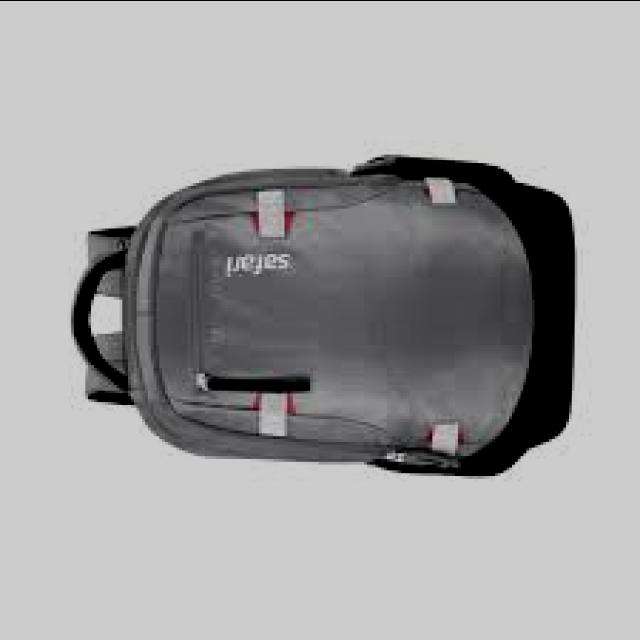backpack: (70, 155, 576, 479)
